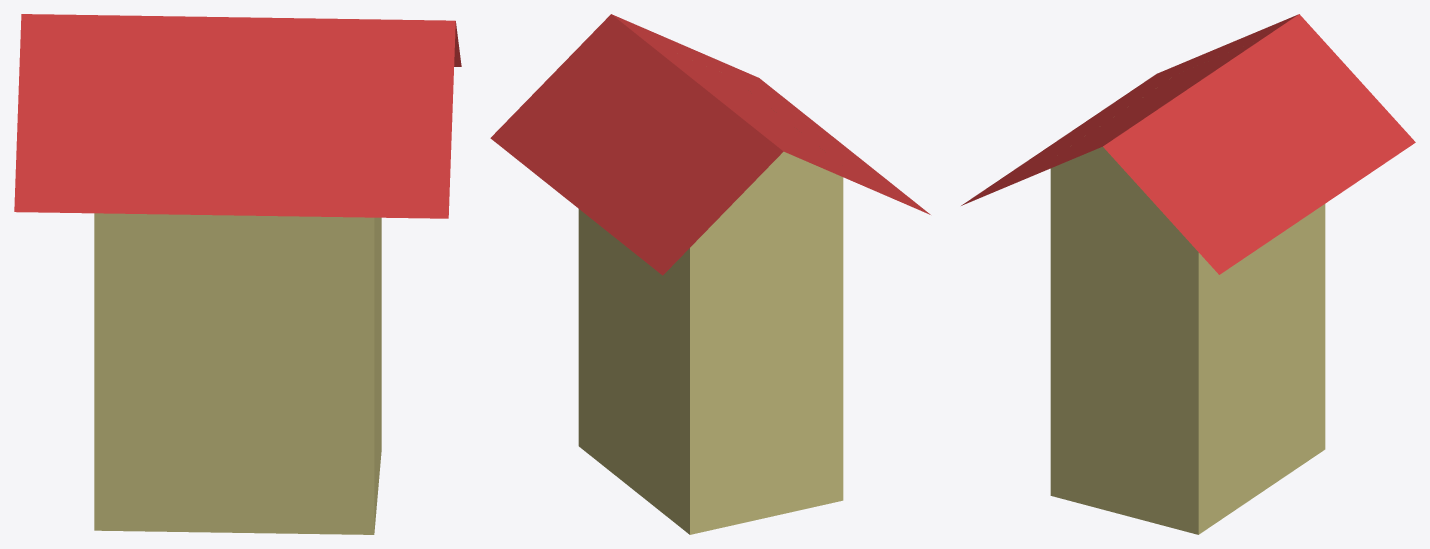
3 renders of one model, left to right at view 1: azimuth 30°, elevation 25°; view 2: azimuth 150°, elevation 25°; view 3: azimuth 270°, elevation 25°, orthographic. The views are drawn at different scales.
Size of the model in its own units: 7.25 by 6.94 by 6.64.
